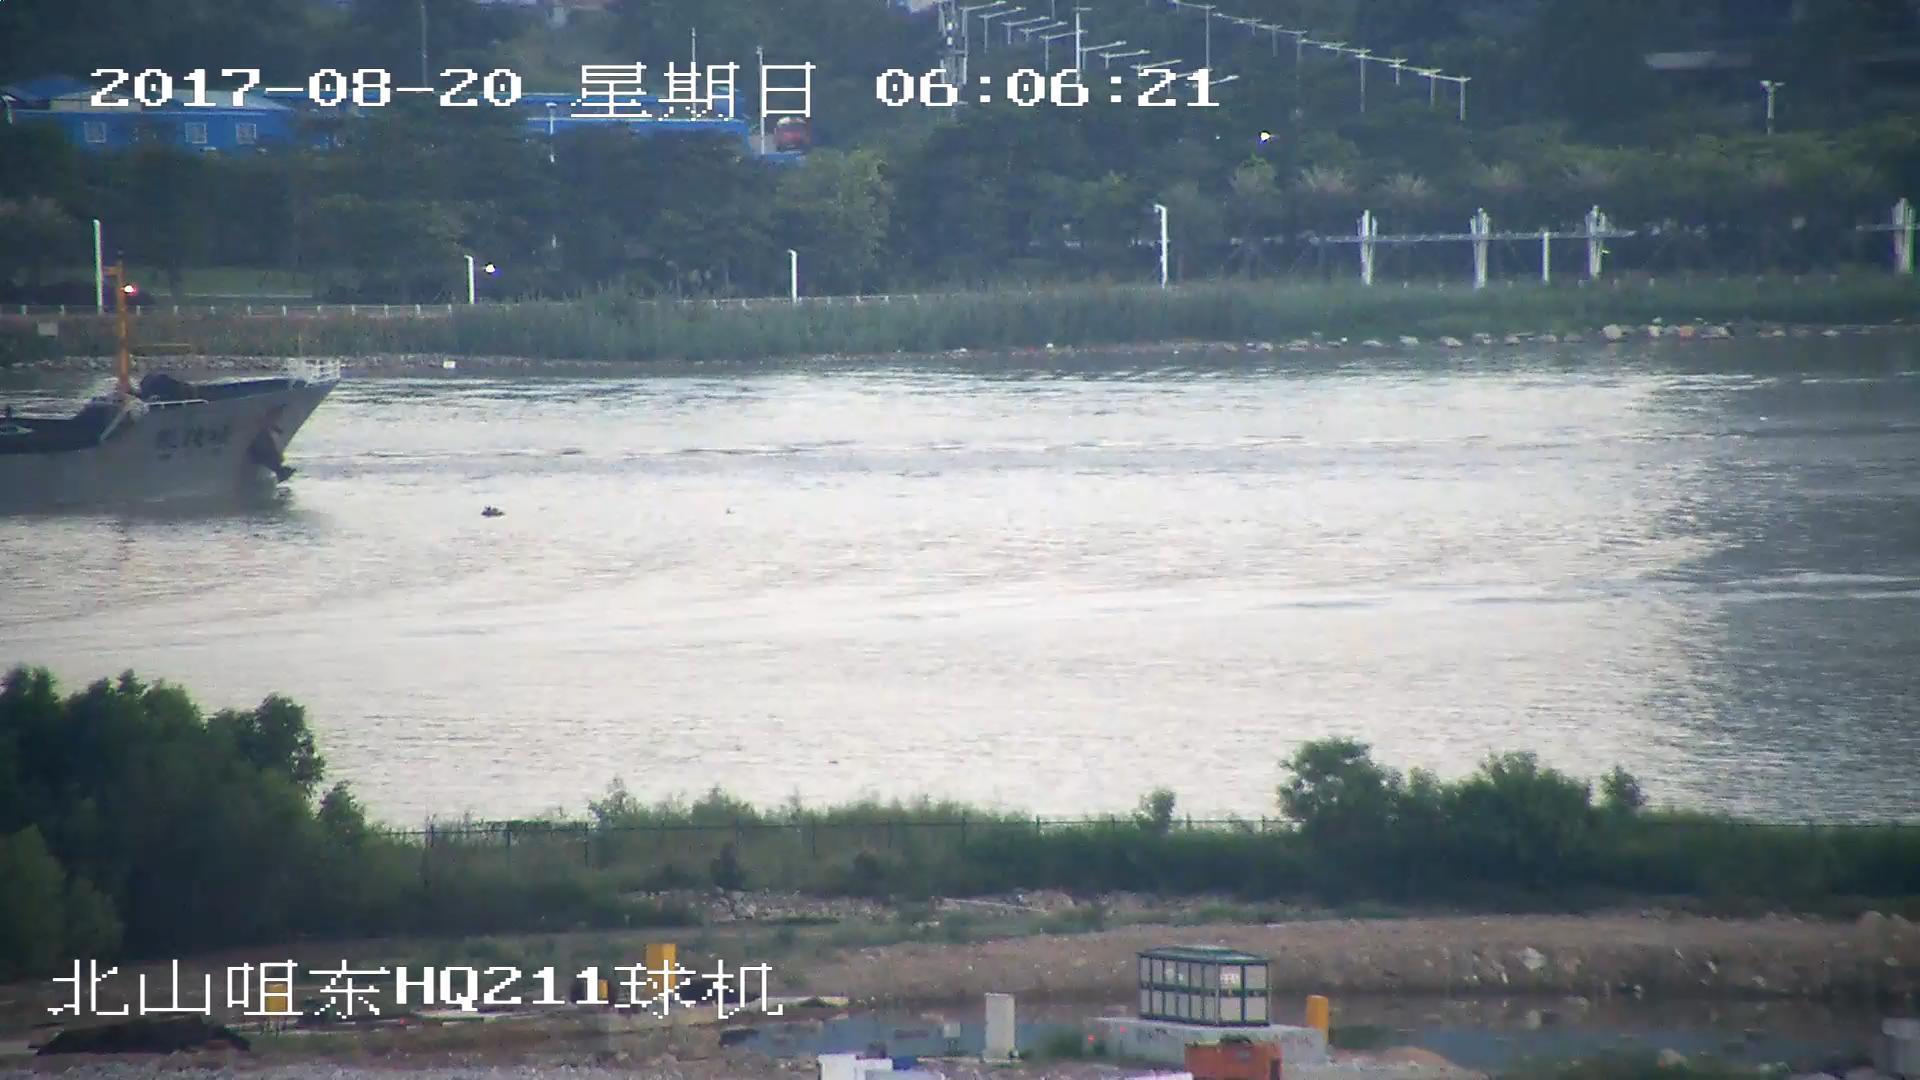Ship: (3, 335, 328, 506)
